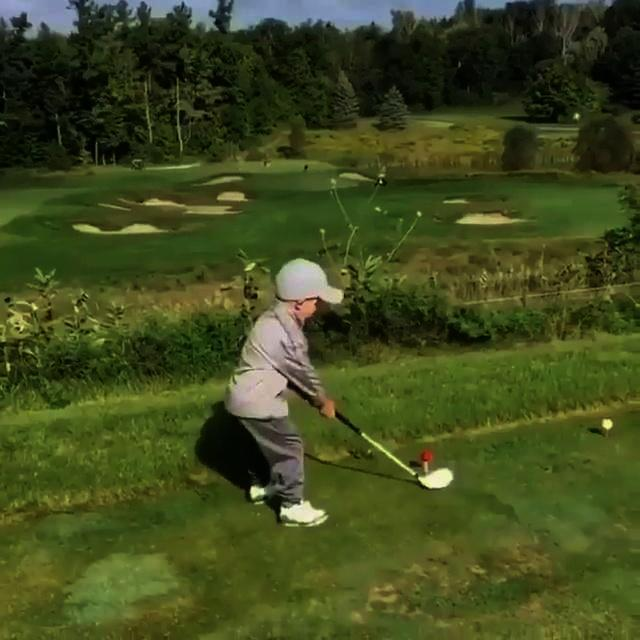ClubHead: (421, 468, 454, 489)
GolfBall: (601, 418, 614, 430), (421, 449, 432, 462)
